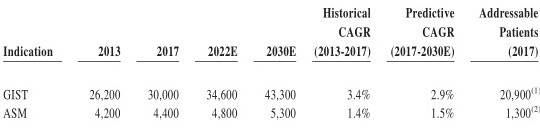column: (391, 1, 454, 128), (479, 1, 539, 128), (314, 1, 372, 128), (3, 1, 53, 128), (265, 1, 297, 128), (206, 1, 237, 128), (148, 1, 179, 127), (89, 1, 119, 128)
row: (1, 86, 539, 100), (1, 46, 540, 58), (1, 107, 540, 119), (1, 7, 540, 18), (1, 27, 540, 37)
